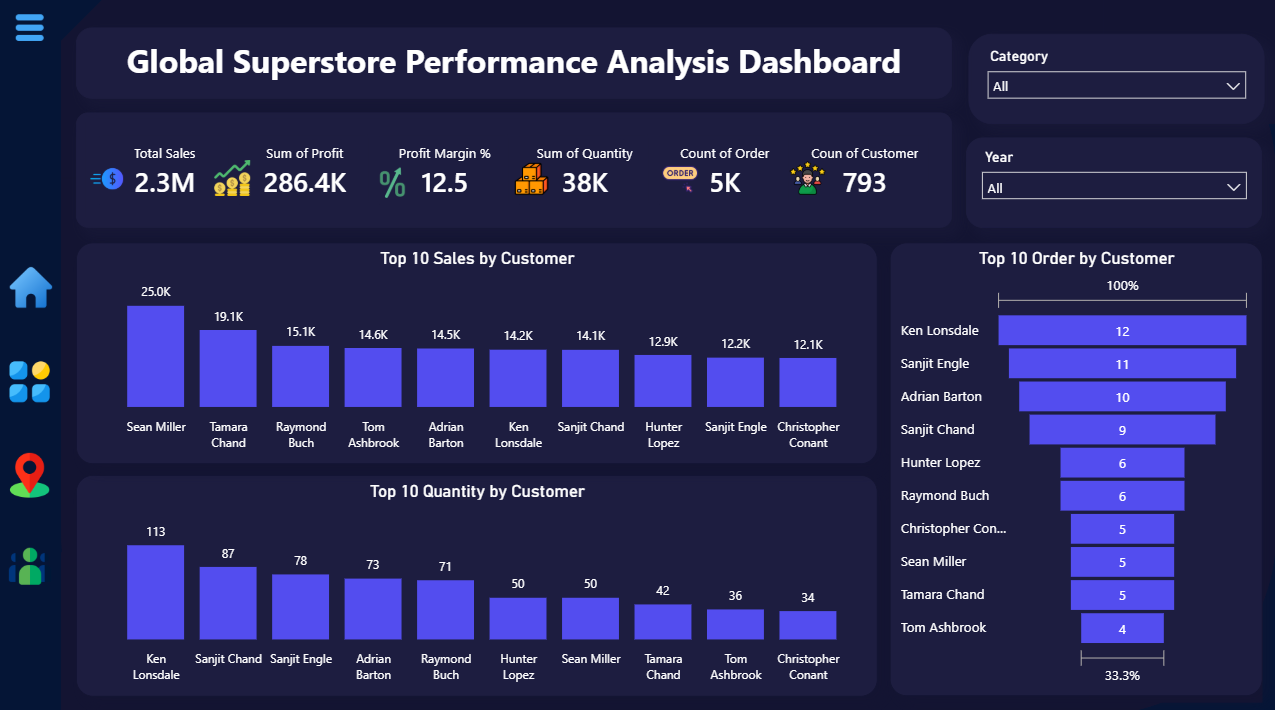

What the dashboard file says about the page in this screenshot:
{"tool":"powerbi","page":{"name":"Customer","canvas":[1280,720],"ordinal":3},"visuals":[{"type":"shape","box":[65,0,1215,720],"z":0},{"type":"shape","box":[1093.8,578.8,172.5,128.8],"z":1000},{"type":"shape","box":[1107.5,0,172.5,128.8],"z":2000},{"type":"shape","box":[65,0,300,183.8],"z":3000},{"type":"cardVisual","fields":{"Data":["Sum(Data.Sales)","Sum(Data.Profit)","Data.Profit Margin %","Sum(Data.Quantity)","Count(Data.Order ID)","Count(Customer.Customer ID)"]},"box":[80,117.5,876.2,115],"z":4000},{"type":"image","box":[11.2,16.2,45,32.5],"z":5000},{"type":"image","box":[11.2,456.2,45,47.5],"z":7000},{"type":"slicer","fields":{"Values":["Product.Category Image"]},"box":[972.5,38.8,296.2,90],"z":8000},{"type":"shape","box":[65,503.8,300,216.2],"z":9000},{"type":"columnChart","title":"Top 10 Quantity by Customer","fields":{"Category":["Customer.Customer Name"],"Y":["Sum(Data.Quantity)"]},"box":[80,480,801.2,221.2],"z":10000},{"type":"image","box":[80,165,61.2,37.5],"z":11000},{"type":"image","box":[215,165,42.5,36.2],"z":12000},{"type":"image","box":[380,172.5,32.5,30],"z":13000},{"type":"image","box":[518.8,166.2,33.8,35],"z":14000},{"type":"image","box":[663.8,166.2,41.2,36.2],"z":15000},{"type":"image","box":[791.2,165,41.2,36.2],"z":16000},{"type":"slicer","fields":{"Values":["Date dim.Year"]},"box":[970,142.5,296.2,90],"z":17000},{"type":"textbox","box":[80,32.5,876.2,71.2],"z":18000},{"type":"image","box":[11.2,360,45,53.8],"z":19000},{"type":"columnChart","title":"Top 10 Sales by Customer","fields":{"Category":["Customer.Customer Name"],"Y":["Sum(Data.Sales)"]},"box":[80,247.5,801.2,221.2],"z":20000},{"type":"funnel","title":"Top 10 Order by Customer","fields":{"Category":["Customer.Customer Name"],"Y":["Count(Data.Order ID)"]},"box":[893.8,247.5,372.5,453.8],"z":21000},{"type":"image","box":[11.2,550,45,42.5],"z":22000},{"type":"image","box":[13.3,270.2,42.2,44.6],"z":22001}]}

Visuals, with their boxes on the page's 1280x720 design canvas (x1, y1, x2, y2). These are canvas units, not pixel positions in the 1275x710 screenshot, which may show the page scaled, cropped or inside an application window:
shape: <bbox>65, 0, 1280, 720</bbox>
shape: <bbox>1094, 579, 1266, 708</bbox>
shape: <bbox>1108, 0, 1280, 129</bbox>
shape: <bbox>65, 0, 365, 184</bbox>
cardVisual - Sum(Data.Sales) x Sum(Data.Profit): <bbox>80, 118, 956, 232</bbox>
image: <bbox>11, 16, 56, 49</bbox>
image: <bbox>11, 456, 56, 504</bbox>
slicer - Product.Category Image: <bbox>972, 39, 1269, 129</bbox>
shape: <bbox>65, 504, 365, 720</bbox>
"Top 10 Quantity by Customer" columnChart: <bbox>80, 480, 881, 701</bbox>
image: <bbox>80, 165, 141, 202</bbox>
image: <bbox>215, 165, 258, 201</bbox>
image: <bbox>380, 172, 412, 202</bbox>
image: <bbox>519, 166, 553, 201</bbox>
image: <bbox>664, 166, 705, 202</bbox>
image: <bbox>791, 165, 832, 201</bbox>
slicer - Date dim.Year: <bbox>970, 142, 1266, 232</bbox>
textbox: <bbox>80, 32, 956, 104</bbox>
image: <bbox>11, 360, 56, 414</bbox>
"Top 10 Sales by Customer" columnChart: <bbox>80, 248, 881, 469</bbox>
"Top 10 Order by Customer" funnel: <bbox>894, 248, 1266, 701</bbox>
image: <bbox>11, 550, 56, 592</bbox>
image: <bbox>13, 270, 56, 315</bbox>
